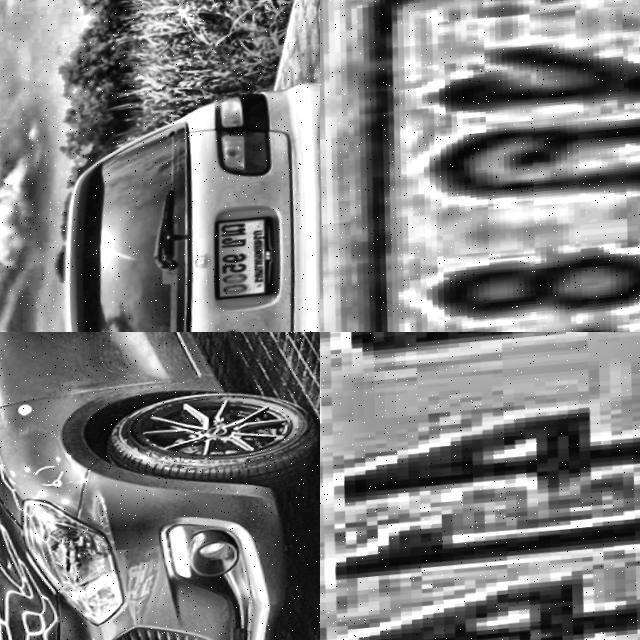license-plate: (320, 0, 640, 332), (320, 332, 640, 640), (211, 212, 289, 301)
